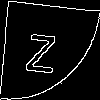Z: (24, 24, 58, 74)
